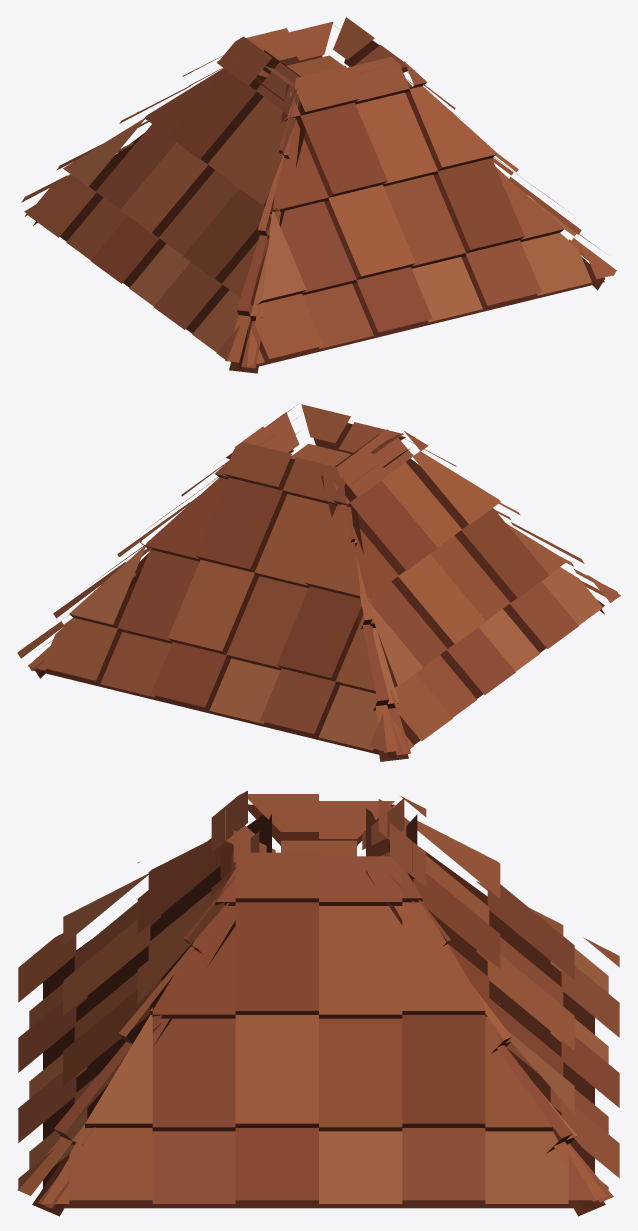
Rendered from roof-point-tile.glb.
3 renders of one model, top to bottom at view 1: azimuth 30°, elevation 25°; view 2: azimuth 150°, elevation 25°; view 3: azimuth 270°, elevation 25°, orthographic. The views are drawn at different scales.
Visible parts, largest first — view 1: roof-point-tile; view 2: roof-point-tile; view 3: roof-point-tile.
Boxes of the visible parts, <box> form: roof-point-tile: <box>21,17,616,373</box>; roof-point-tile: <box>17,404,620,761</box>; roof-point-tile: <box>17,790,619,1216</box>.
Size of the model in its own units: 1.1 by 0.5422 by 1.1.
